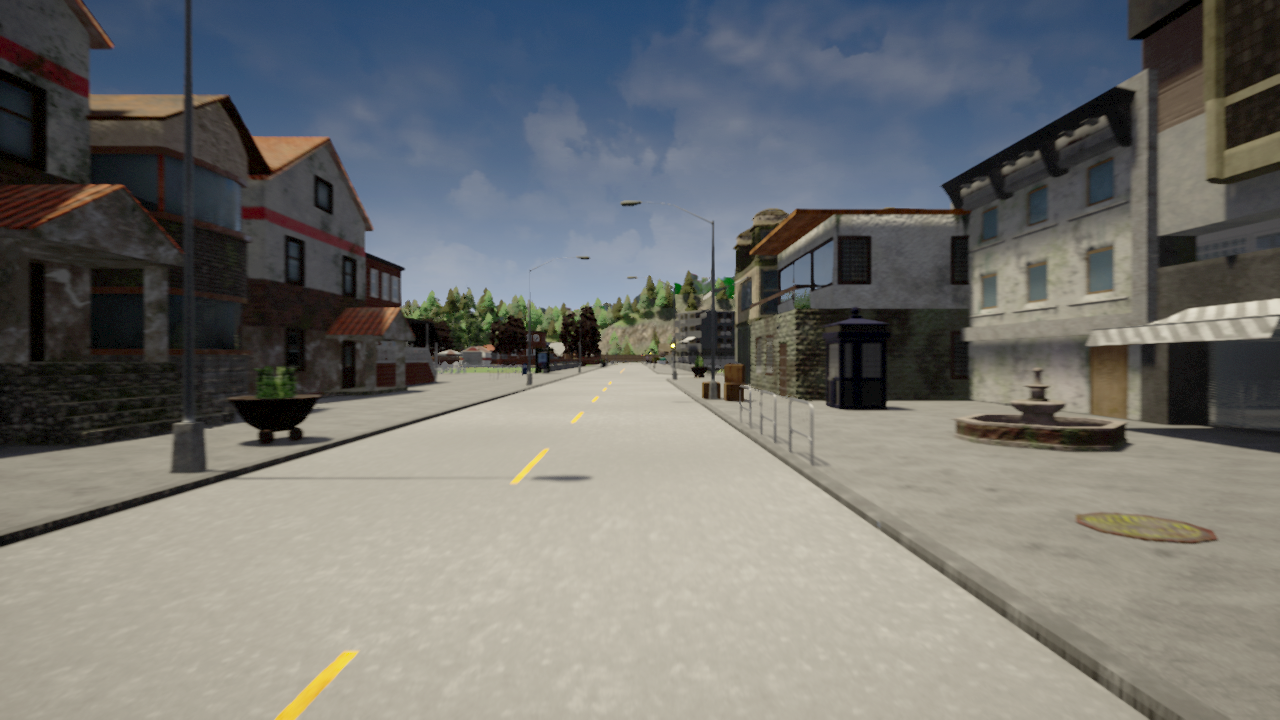yellow: (670, 338, 676, 352)
